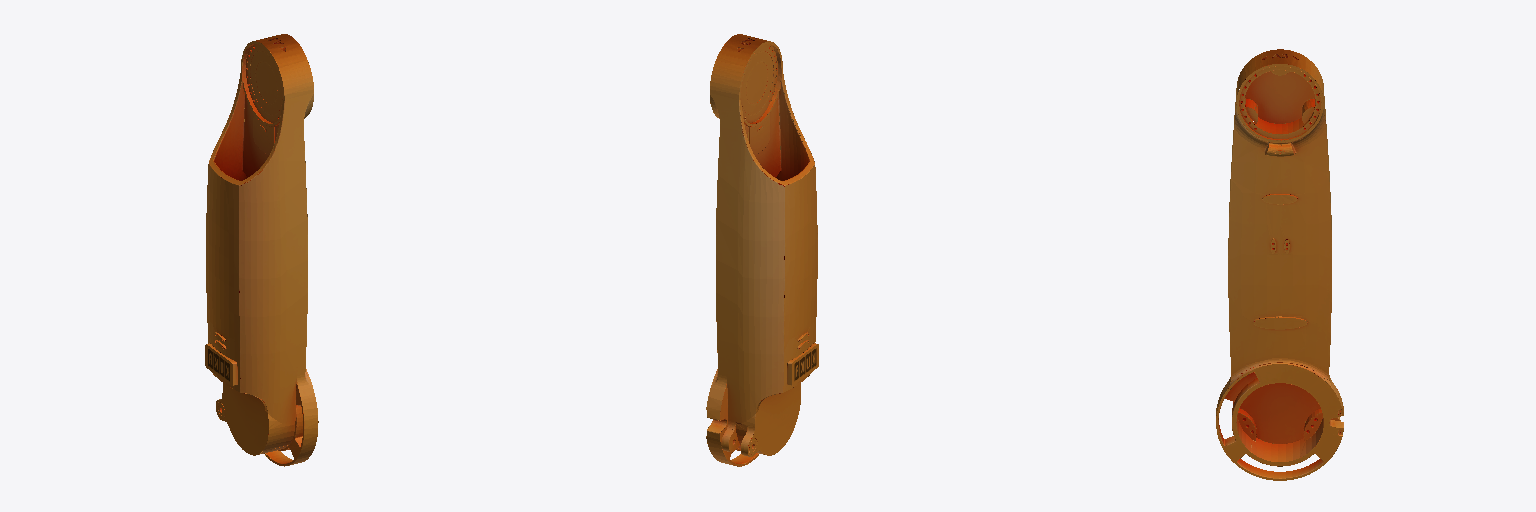
3 renders of one model, left to right at view 1: azimuth 30°, elevation 25°; view 2: azimuth 150°, elevation 25°; view 3: azimuth 270°, elevation 25°, orthographic.
Parts seen in each view (by area): view 1: Body_2_Body_2.001; view 2: Body_2_Body_2.001; view 3: Body_2_Body_2.001.
Part boxes in pixels (left/top/right/bottom): Body_2_Body_2.001: left=205, top=34, right=318, bottom=466; Body_2_Body_2.001: left=706, top=34, right=818, bottom=466; Body_2_Body_2.001: left=1216, top=49, right=1343, bottom=480.
Size of the model in its own units: 0.4139 by 2.22 by 0.6131.
1 materials, 1 textured.